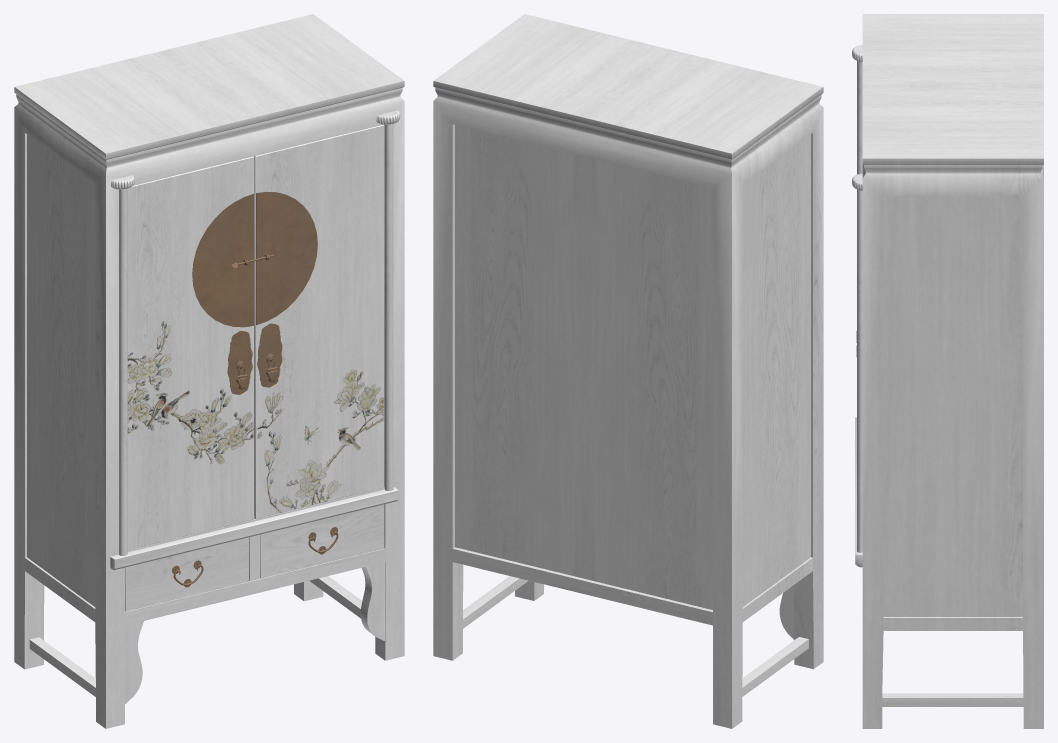
File: wedding_cabinet.gltf
3 renders of one model, left to right at view 1: azimuth 30°, elevation 25°; view 2: azimuth 150°, elevation 25°; view 3: azimuth 270°, elevation 25°, orthographic.
Parts seen in each view (by area): view 1: export; view 2: export; view 3: export.
Boxes of the visible parts, bbox=[...] form: export: bbox=[14, 14, 404, 728]; export: bbox=[433, 14, 823, 728]; export: bbox=[852, 14, 1043, 728].
Bounding box in the file's own units: 0.9993 × 1.84 × 0.5605.
1 material, 1 textured.
